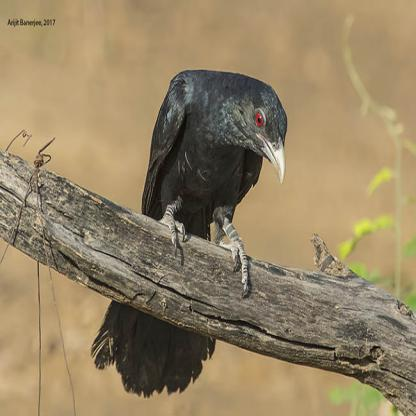Burung: (90, 69, 288, 398)
